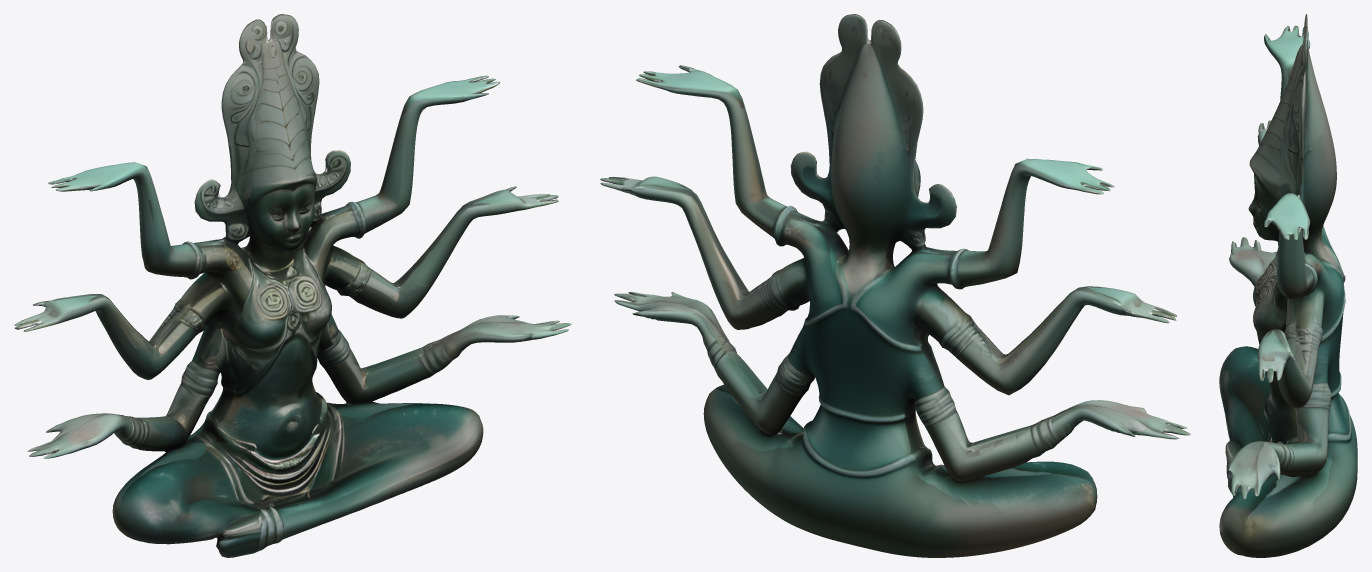
The model's file is maha_kali.glb.
3 views of the same model, side by side, from view 1: azimuth 30°, elevation 25°; view 2: azimuth 150°, elevation 25°; view 3: azimuth 270°, elevation 25° (orthographic). The views are drawn at different scales.
Parts seen in each view (by area): view 1: Object_2; view 2: Object_2; view 3: Object_2.
Boxes of the visible parts, bbox=[...] form: Object_2: bbox=[14, 14, 571, 557]; Object_2: bbox=[600, 14, 1190, 557]; Object_2: bbox=[1219, 14, 1357, 557].
Bounding box in the file's own units: 1.89 × 1.67 × 0.422.
1 material, 1 textured.
